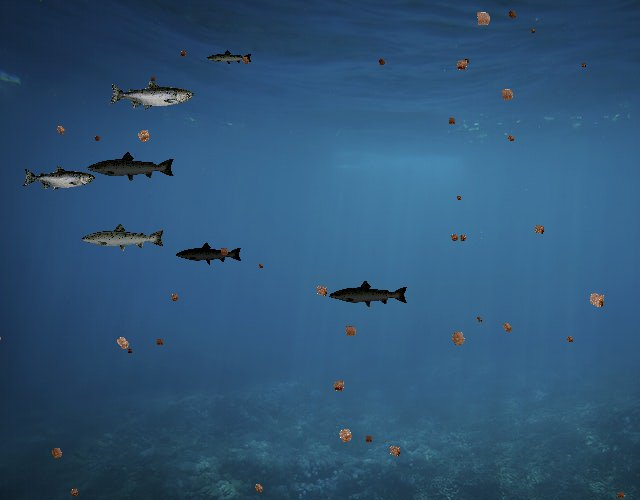Fish: (86, 150, 176, 183), (80, 222, 166, 253), (108, 80, 194, 111), (329, 279, 410, 309), (22, 166, 95, 192), (176, 242, 244, 266), (207, 50, 254, 67)
Pellet: (469, 4, 497, 32), (495, 83, 519, 107), (310, 279, 333, 302), (497, 317, 517, 337), (51, 121, 70, 140), (237, 52, 253, 68), (362, 432, 376, 446), (91, 132, 104, 145), (454, 192, 464, 202)
